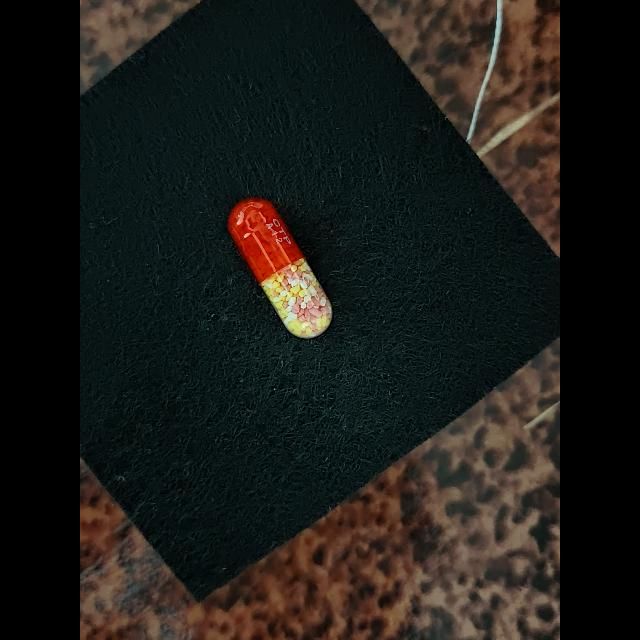Intact Capsule: (227, 198, 332, 339)
